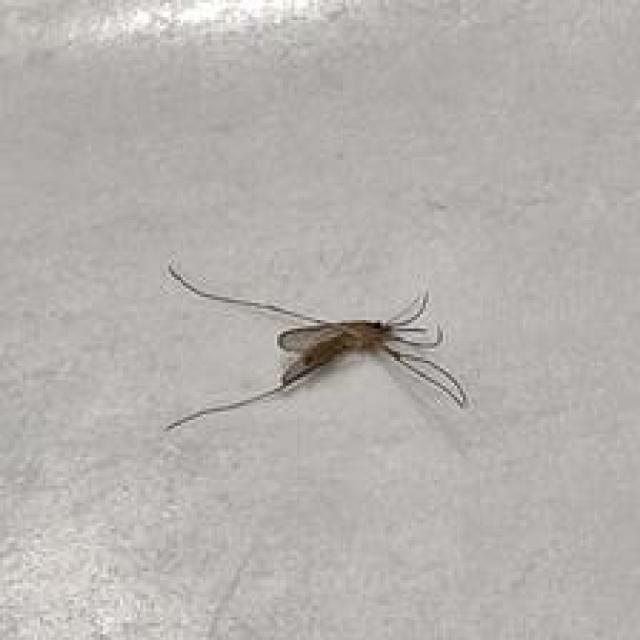Culex: (161, 258, 470, 433)
